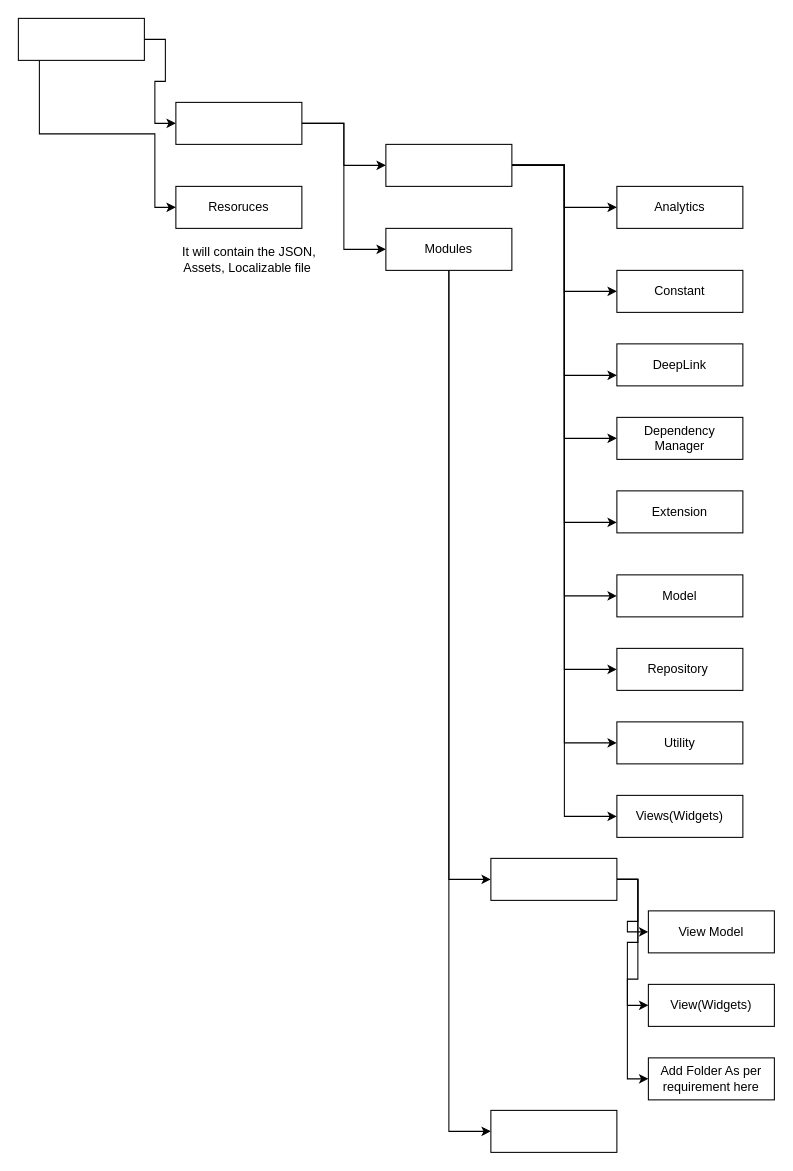
Image size: 793x1171. Some labels were removed from this diagram. The centre of each missing label's shape, as x and y in pixels:
"Classes" goes at point 238,122.
"Common" goes at point 448,164.
"Home Screen" goes at point 553,878.
"src" goes at point 80,38.
"Upload Document screen etc" goes at point 553,1130.
